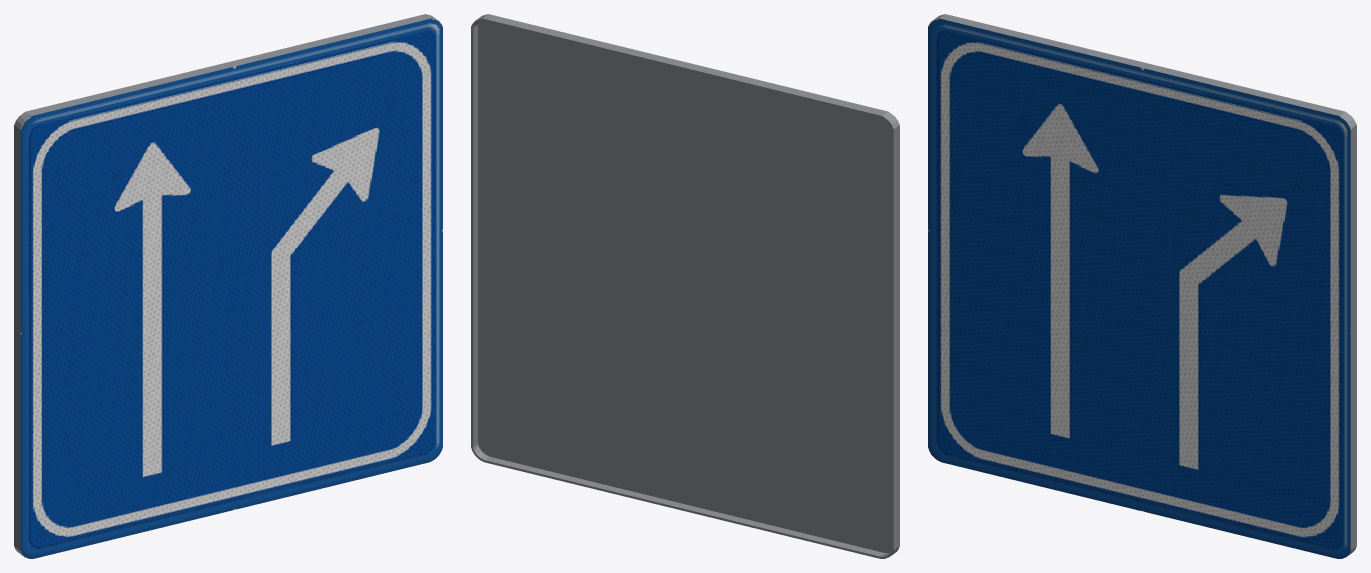
3 renders of one model, left to right at view 1: azimuth 30°, elevation 25°; view 2: azimuth 150°, elevation 25°; view 3: azimuth 330°, elevation 25°, orthographic.
Visible parts, largest first — view 1: cat_9ea567fcc5e7702f; view 2: cat_9ea567fcc5e7702f; view 3: cat_9ea567fcc5e7702f.
Part boxes in pixels (left/top/right/bottom): cat_9ea567fcc5e7702f: left=14, top=14, right=442, bottom=558; cat_9ea567fcc5e7702f: left=471, top=14, right=899, bottom=558; cat_9ea567fcc5e7702f: left=928, top=14, right=1356, bottom=558.
Bounding box in the file's own units: 0.6 × 0.015 × 0.6014.
2 materials, 1 textured.
